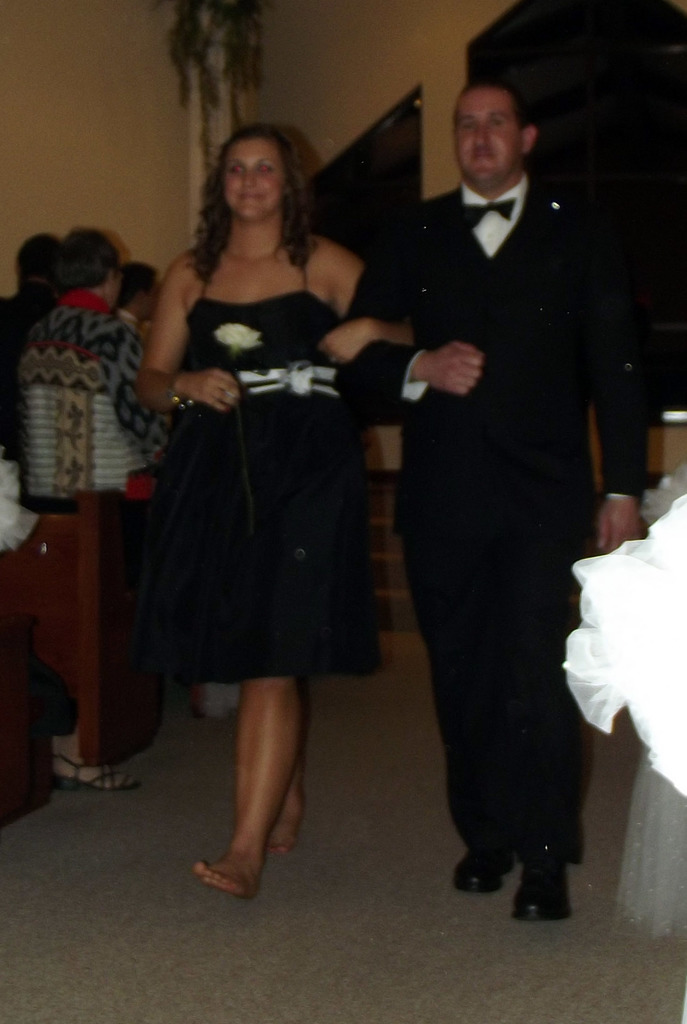Footwear: (56, 749, 144, 798), (517, 863, 574, 924), (454, 847, 512, 898)
